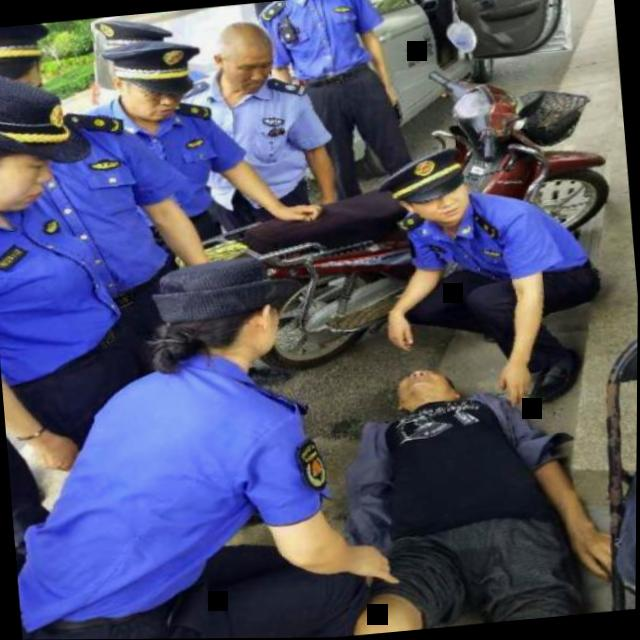Fall-Detected: (311, 330, 634, 638)
